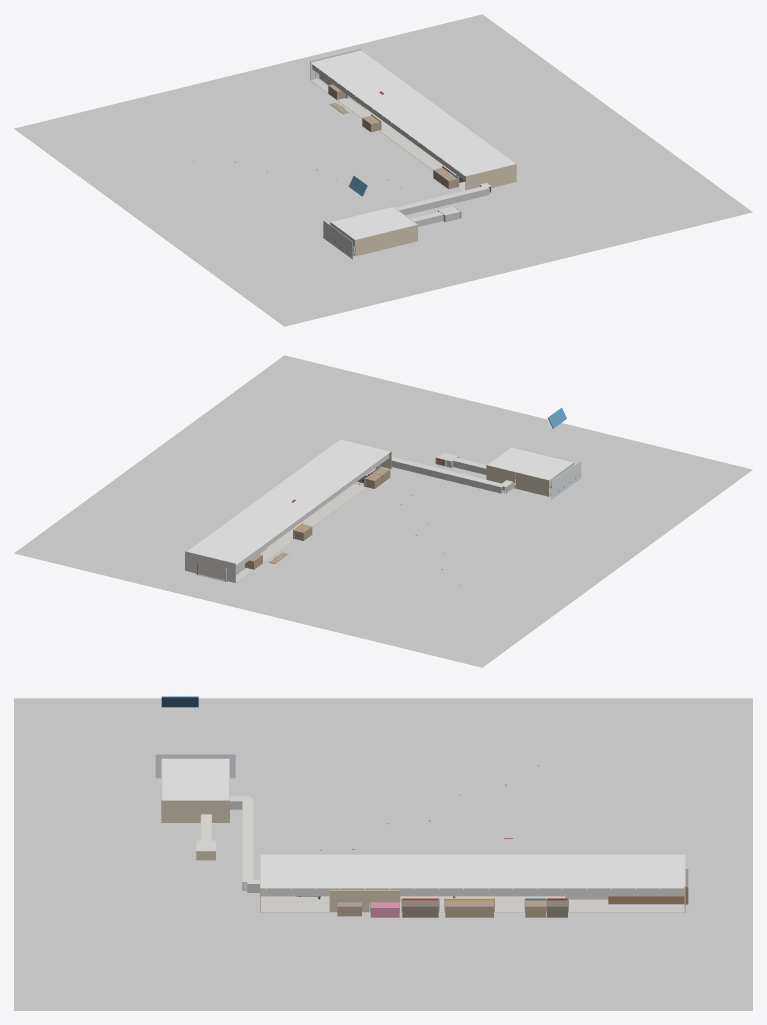
The picture shows the model from 3 angles, top to bottom: view 1: azimuth 30°, elevation 25°; view 2: azimuth 150°, elevation 25°; view 3: azimuth 270°, elevation 25°; orthographic projection. The views are drawn at different scales.
Parts seen in each view (by area): view 1: site_base, s03_roof, s02_ceil, s03_floor, s02_wallS, s03_wallS, s03_bandL, c2_wallB2, s02_skybg; view 2: site_base, s03_roof, s02_ceil, s03_floor, s03_wallN, s03_bandL, c2_wallB1, s02_wallN1, s02_skybg; view 3: site_base, s03_roof, s03_floor, s03_bandR, s02_ceil, s02_wallE, c2_ceilB, sf_in.003, corr2_wallE, jcp_facade, sf_in.002, s02_skybg.
Boxes of the visible parts, box(x1,y1,x2,y2) form: site_base: box(14, 14, 752, 326); s03_roof: box(310, 50, 515, 176); s02_ceil: box(331, 207, 416, 239); s03_floor: box(310, 78, 465, 191); s02_wallS: box(355, 224, 417, 256); s03_wallS: box(465, 164, 516, 190); s03_bandL: box(312, 65, 465, 180); c2_wallB2: box(399, 188, 489, 215); s02_skybg: box(323, 220, 352, 259); site_base: box(14, 355, 752, 667); s03_roof: box(187, 439, 390, 565); s02_ceil: box(488, 447, 572, 479); s03_floor: box(236, 466, 390, 582); s03_wallN: box(185, 551, 235, 582); s03_bandL: box(236, 454, 389, 569); c2_wallB1: box(391, 460, 501, 493); s02_wallN1: box(515, 472, 549, 496); s02_skybg: box(551, 461, 581, 499); site_base: box(14, 698, 752, 1010); s03_roof: box(260, 854, 684, 888); s03_floor: box(260, 896, 684, 912); s03_bandR: box(260, 888, 684, 896); s02_ceil: box(162, 759, 229, 800); s02_wallE: box(161, 800, 229, 822); c2_ceilB: box(242, 798, 253, 882); sf_in.003: box(445, 900, 493, 917); corr2_wallE: box(608, 886, 688, 903); jcp_facade: box(329, 890, 369, 911); sf_in.002: box(402, 900, 438, 917); s02_skybg: box(155, 754, 235, 778).
Size of what is drawn, in the model's own units: 240 by 44.12 by 240.
